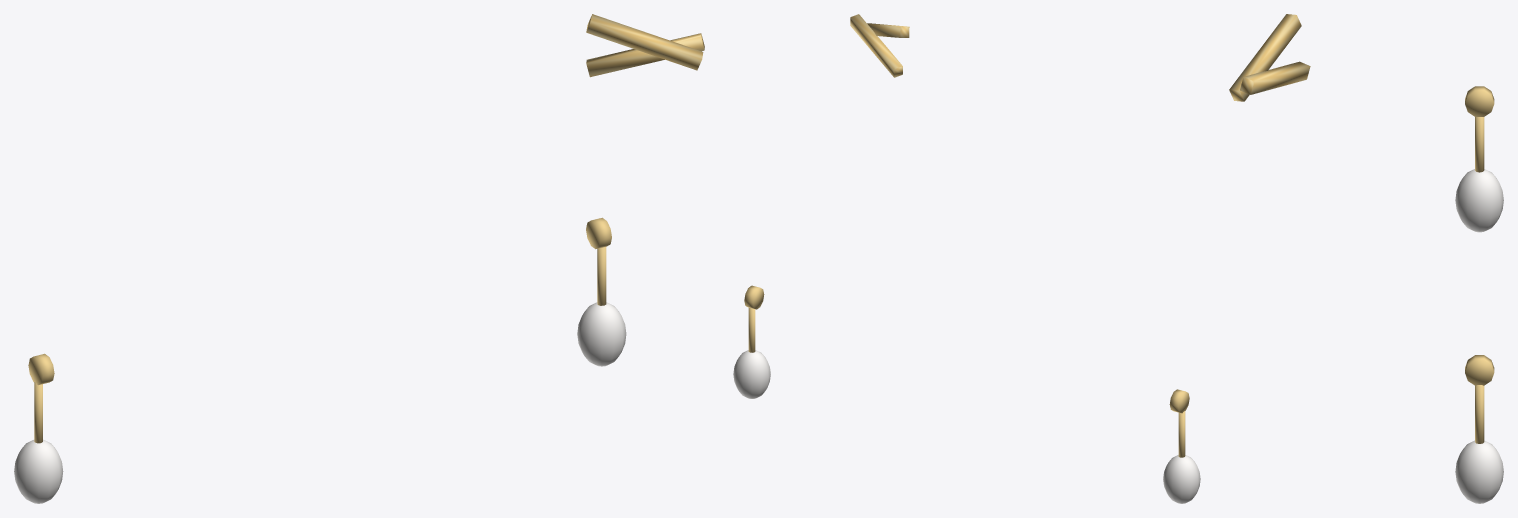
Rendered from pearl-earrings-pin.glb.
3 views of the same model, side by side, from view 1: azimuth 30°, elevation 25°; view 2: azimuth 150°, elevation 25°; view 3: azimuth 270°, elevation 25° (orthographic). The views are drawn at different scales.
Visible parts, largest first — view 1: TS_HeadProp_pearl-earrings-pin; view 2: TS_HeadProp_pearl-earrings-pin; view 3: TS_HeadProp_pearl-earrings-pin.
Boxes of the visible parts, bbox=[...] form: TS_HeadProp_pearl-earrings-pin: bbox=[14, 14, 704, 503]; TS_HeadProp_pearl-earrings-pin: bbox=[733, 14, 1200, 503]; TS_HeadProp_pearl-earrings-pin: bbox=[1229, 14, 1503, 503].
Size of the model in its own units: 0.213 by 0.149 by 0.0847.
Materials: 1 (1 with a texture image).
